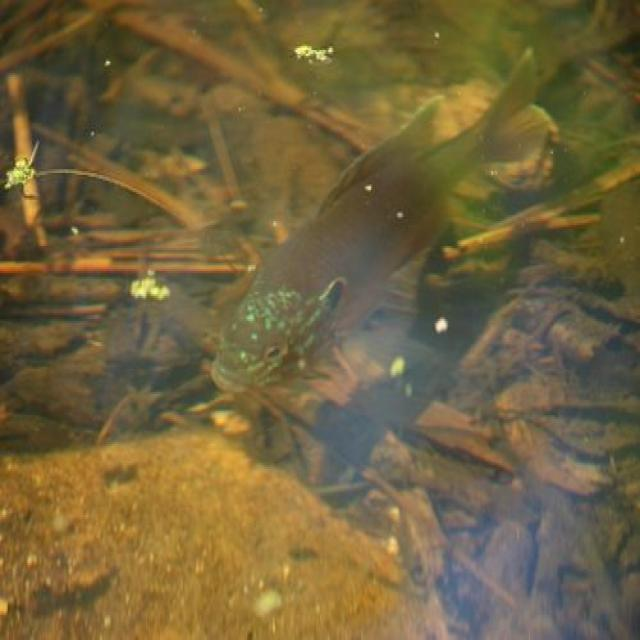Gunes Levregi: (212, 45, 560, 397)
